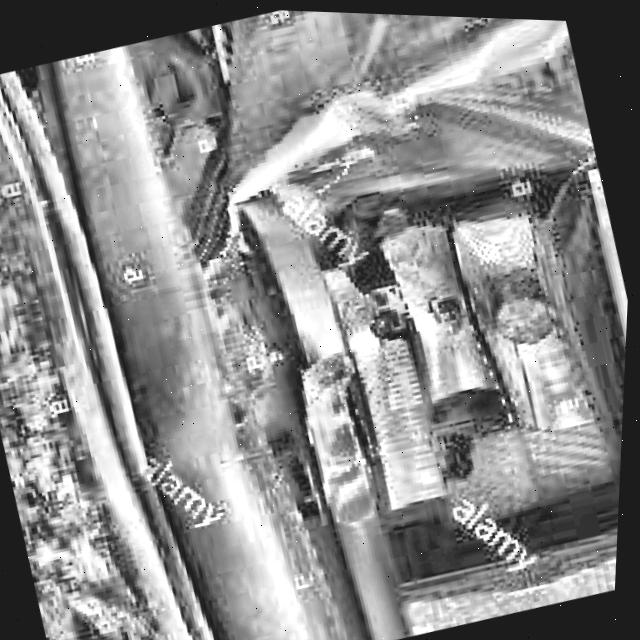tail_lamp: (285, 143, 634, 613)
